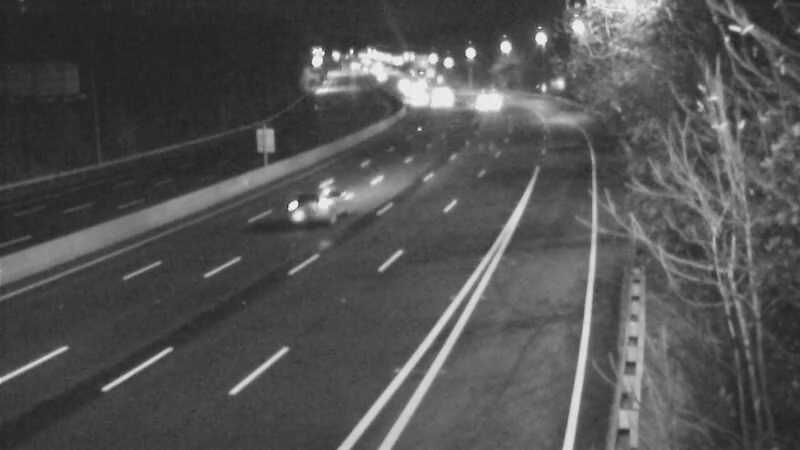vehicle: (271, 158, 351, 238), (460, 76, 510, 126), (413, 79, 463, 129)
